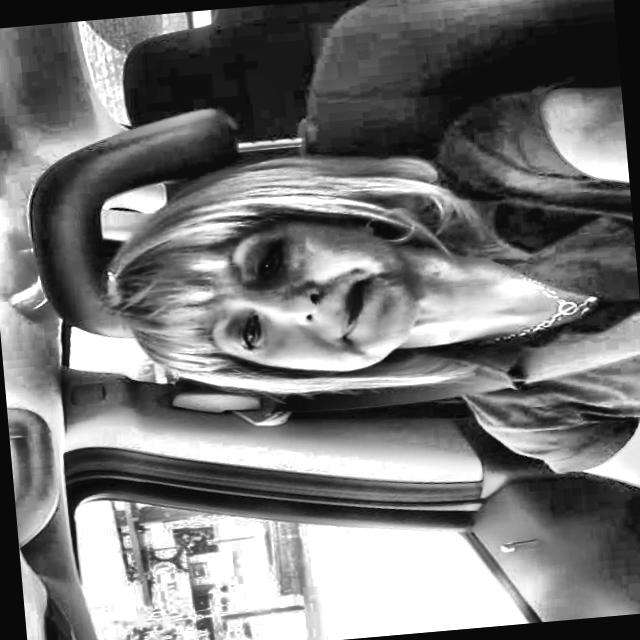closed_mouth: (330, 265, 397, 361)
open_eyes: (228, 303, 280, 375), (245, 237, 296, 294)
